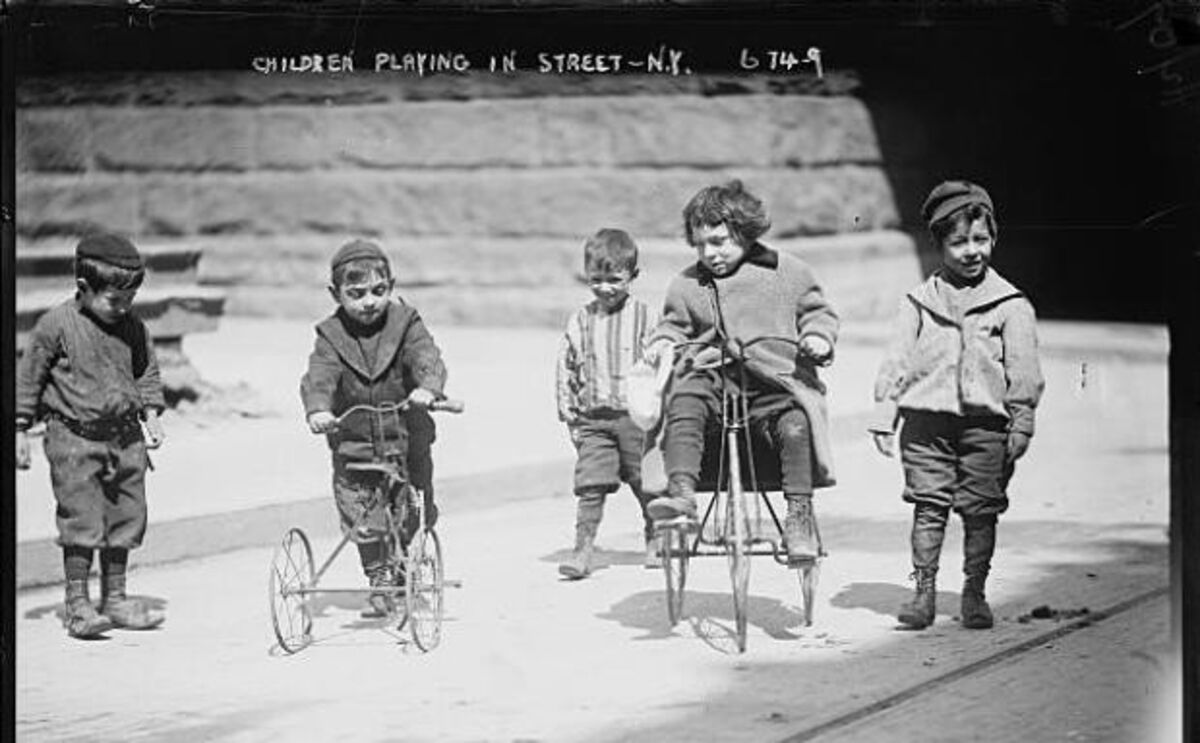Person: (640, 180, 843, 592), (875, 161, 1043, 639), (15, 233, 202, 651), (283, 237, 467, 593), (536, 217, 690, 601)
